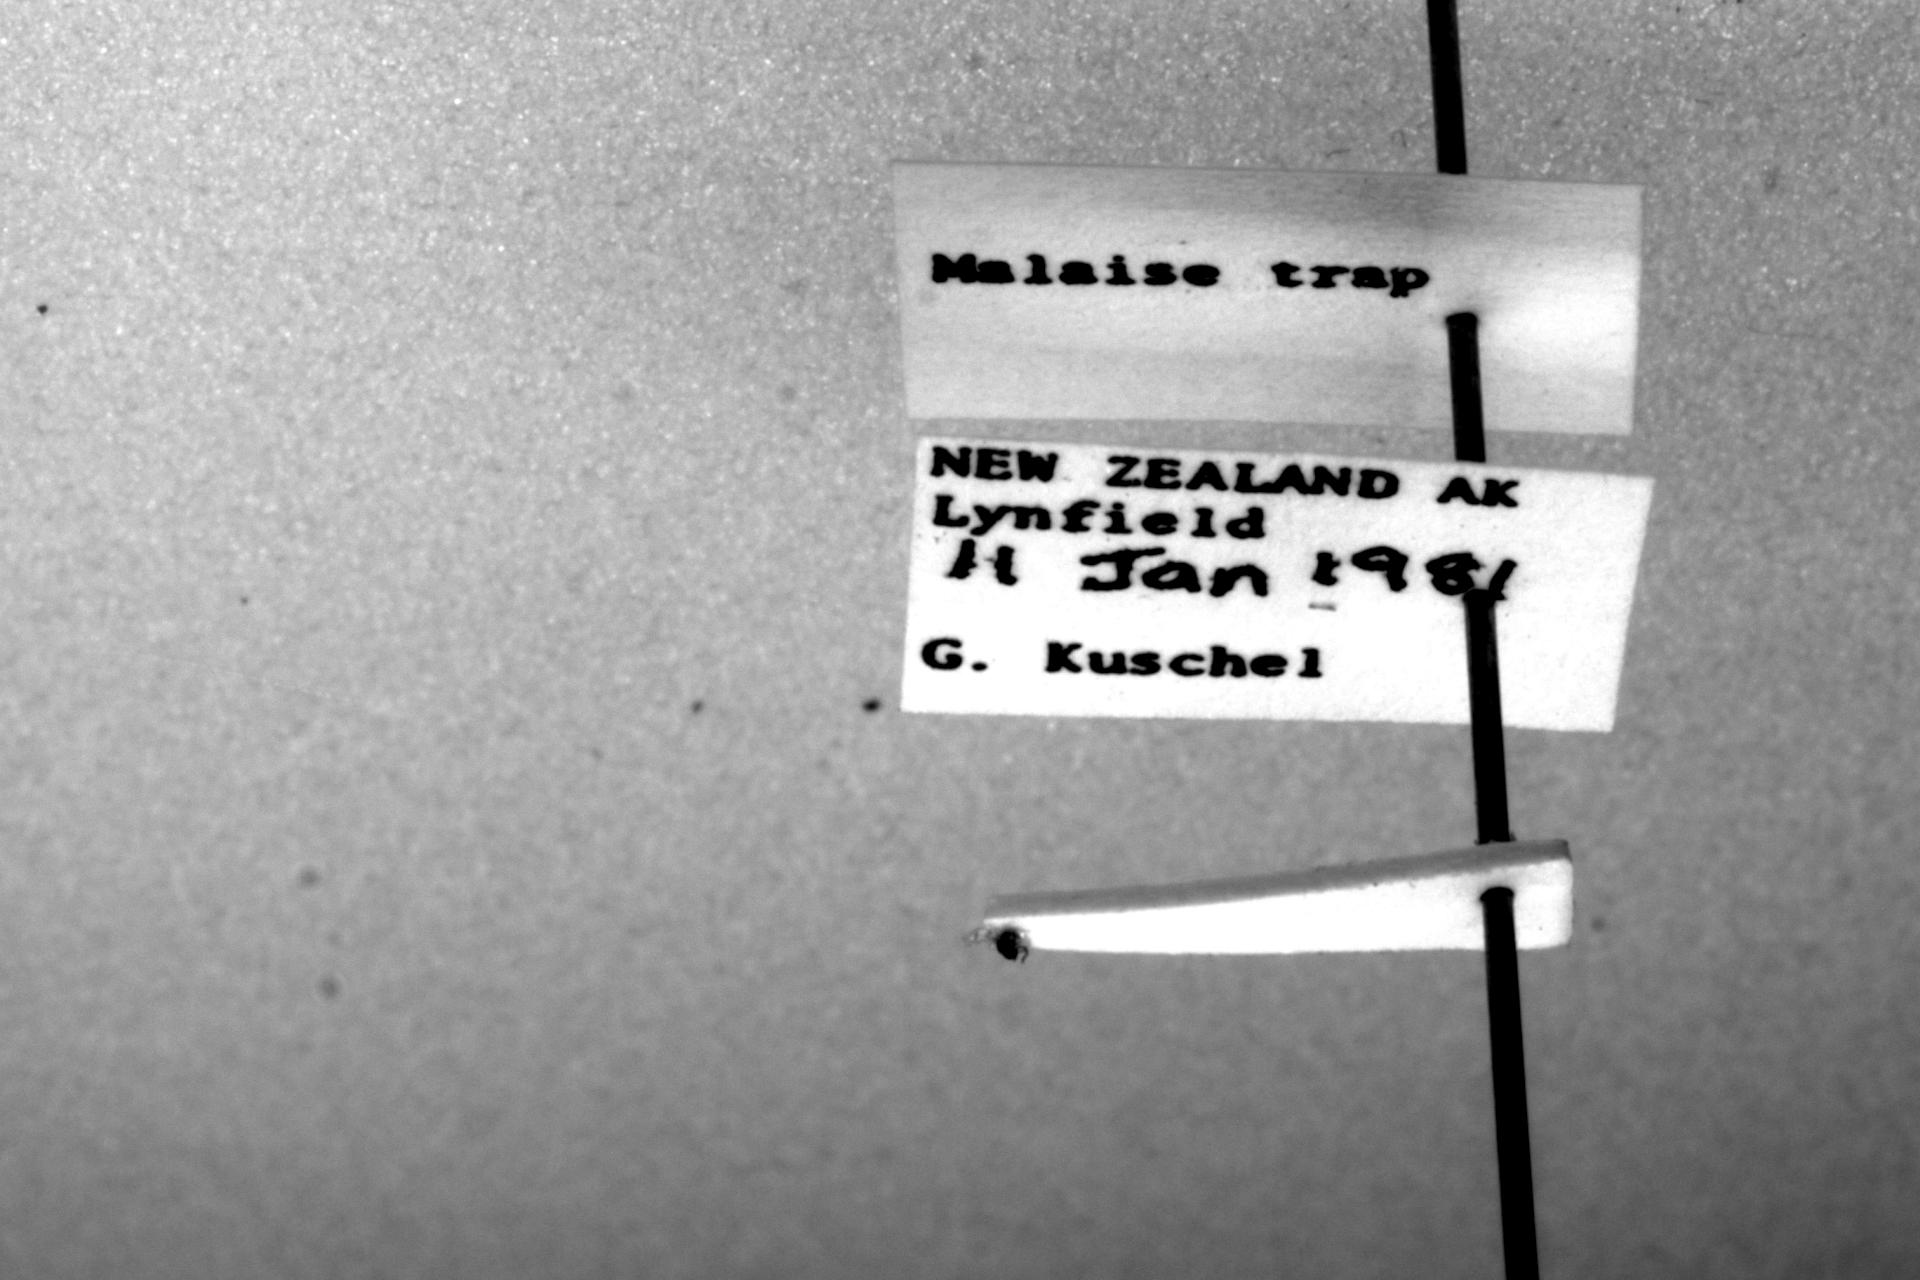mixed_label: (904, 439, 1654, 731)
typed_label: (893, 161, 1643, 434)
